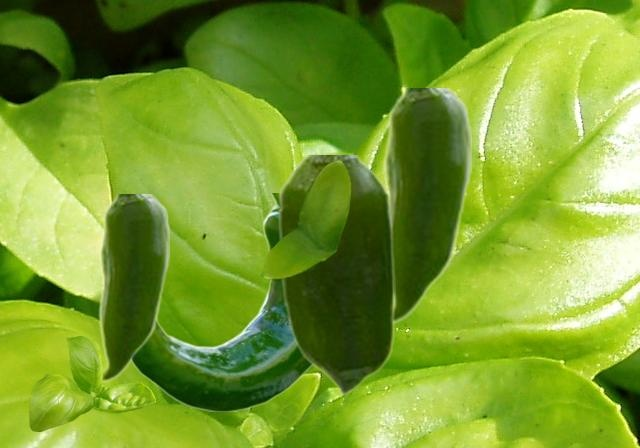green_chili: (132, 193, 312, 410), (277, 155, 394, 394), (378, 88, 470, 326), (95, 194, 168, 384)
